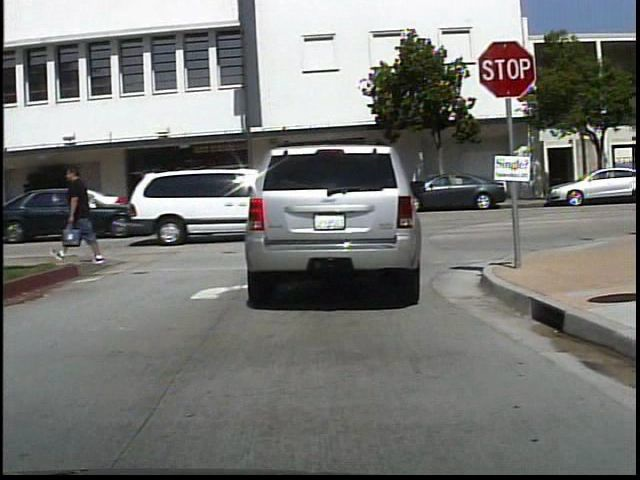person: (55, 160, 112, 267), (51, 177, 77, 227), (17, 176, 41, 221)
